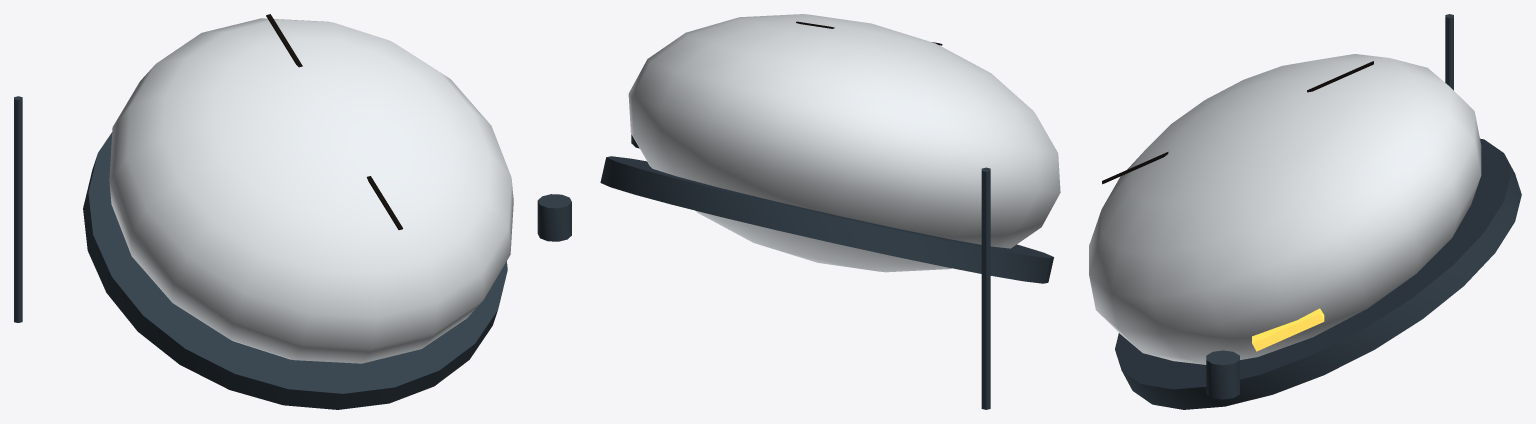
The model's file is debris_radome.glb.
3 views of the same model, side by side, from view 1: azimuth 30°, elevation 25°; view 2: azimuth 150°, elevation 25°; view 3: azimuth 270°, elevation 25° (orthographic). The views are drawn at different scales.
Visible parts, largest first — view 1: dome, dome_base, antenna_bent, ciws_stub, cracks; view 2: dome, dome_base, antenna_bent; view 3: dome, dome_base, ciws_stub, hot, antenna_bent, cracks.
Part boxes in pixels (x1=…): dome: x1=109, y1=18, x2=513, y2=363; dome_base: x1=83, y1=132, x2=507, y2=409; antenna_bent: x1=14, y1=96, x2=22, y2=322; ciws_stub: x1=537, y1=194, x2=571, y2=241; cracks: x1=266, y1=14, x2=402, y2=229; dome: x1=628, y1=14, x2=1060, y2=272; dome_base: x1=600, y1=156, x2=1053, y2=283; antenna_bent: x1=981, y1=167, x2=990, y2=409; dome: x1=1089, y1=54, x2=1481, y2=364; dome_base: x1=1115, y1=138, x2=1521, y2=409; ciws_stub: x1=1206, y1=350, x2=1239, y2=399; hot: x1=1252, y1=308, x2=1324, y2=351; antenna_bent: x1=1445, y1=14, x2=1453, y2=90; cracks: x1=1102, y1=61, x2=1373, y2=184.
Size of the model in its own units: 4.18 by 2.7 by 3.44.
